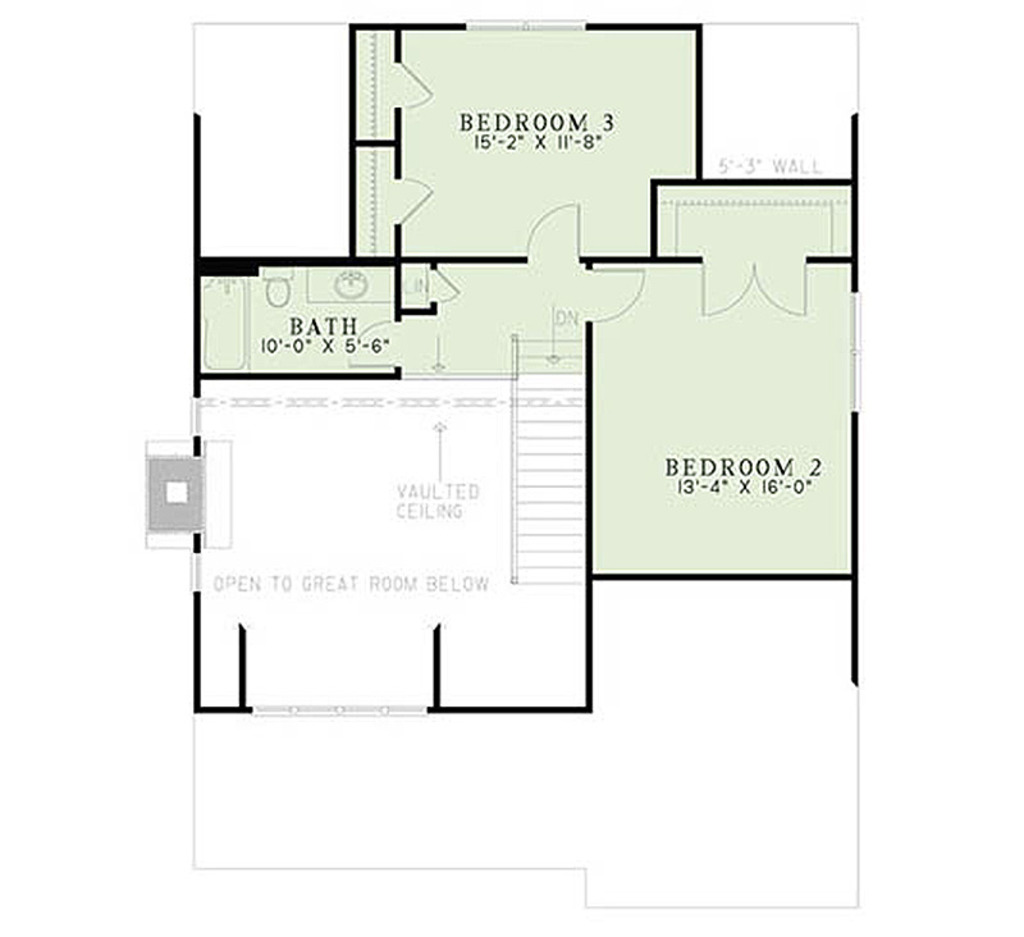door: (700, 252, 823, 328), (517, 202, 598, 261), (347, 300, 404, 370), (397, 168, 447, 237), (589, 261, 643, 322), (391, 63, 436, 118), (424, 264, 469, 308)
large_sink: (255, 267, 307, 315)
small_sink: (311, 260, 391, 302)
stairs: (499, 328, 605, 593)
tub: (199, 273, 260, 368)
window: (462, 13, 598, 41), (842, 289, 869, 413)
